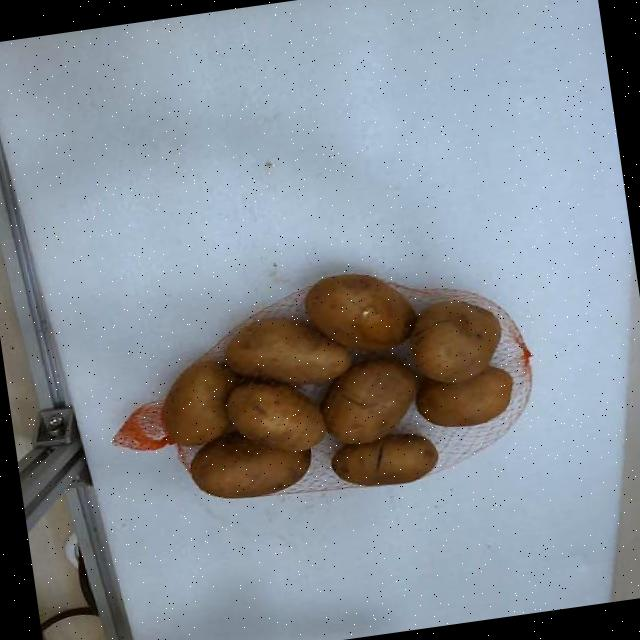potato: (305, 274, 415, 351), (226, 318, 350, 384), (190, 433, 310, 499), (322, 360, 417, 443), (409, 301, 499, 384), (226, 382, 326, 452), (162, 360, 238, 445), (416, 367, 512, 427), (331, 435, 436, 486)
